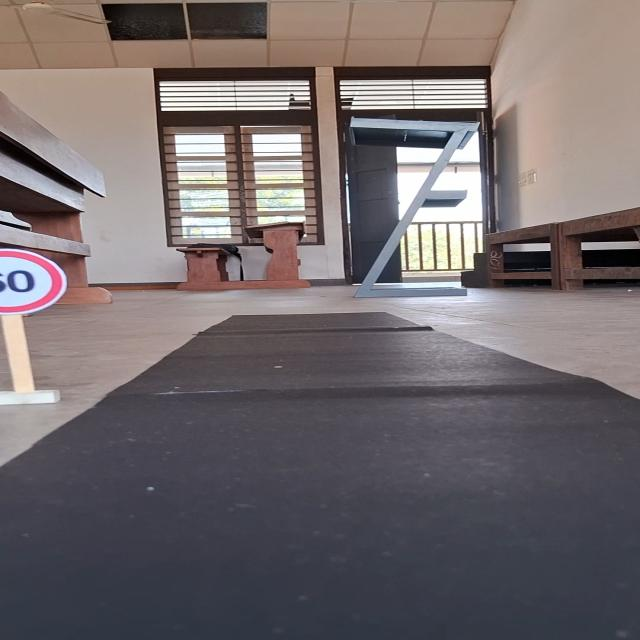Speed60: (0, 244, 69, 317)
